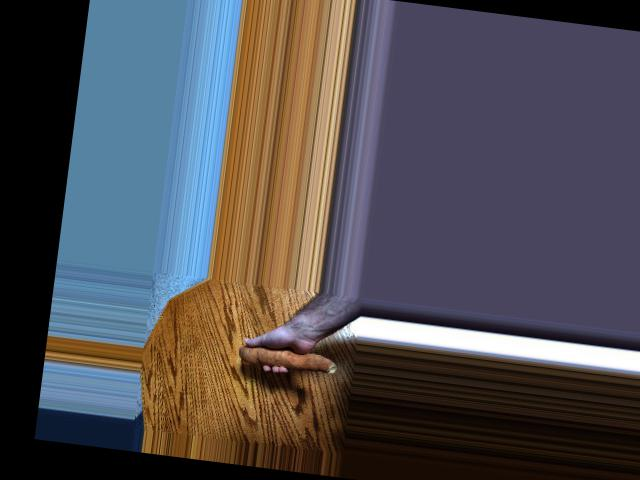sweet_potato: (236, 333, 340, 375)
